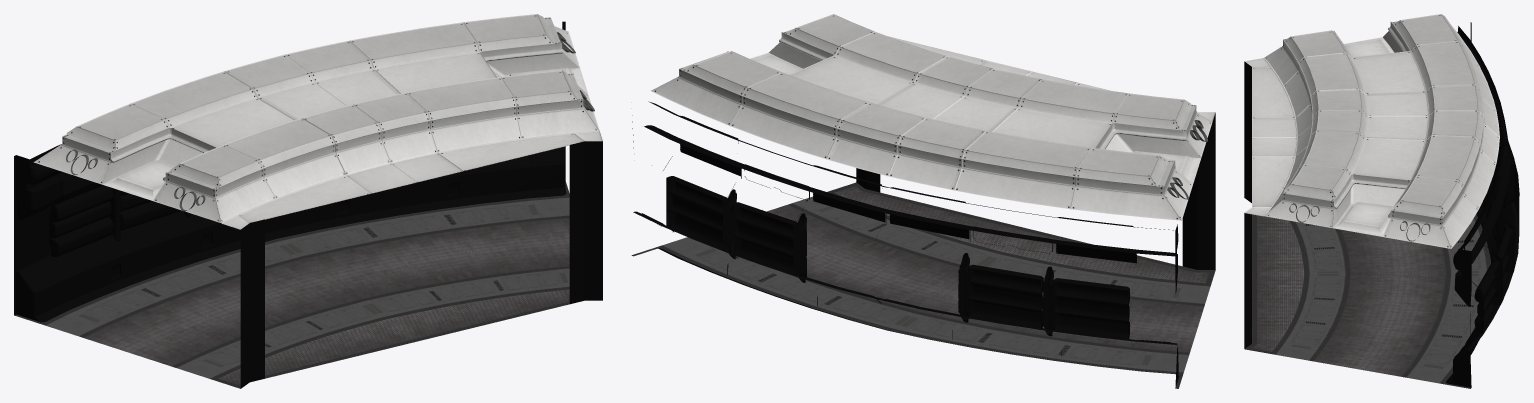
File: HallwayBendA.fbx
3 renders of one model, left to right at view 1: azimuth 30°, elevation 25°; view 2: azimuth 150°, elevation 25°; view 3: azimuth 270°, elevation 25°, orthographic. The views are drawn at different scales.
Parts seen in each view (by area): view 1: HallwayBendA001; view 2: HallwayBendA001; view 3: HallwayBendA001.
Part boxes in pixels (x1=…): HallwayBendA001: x1=14, y1=14, x2=602, y2=388; HallwayBendA001: x1=631, y1=14, x2=1215, y2=388; HallwayBendA001: x1=1244, y1=14, x2=1519, y2=388.
Size of the model in its own units: 1449 by 478 by 730.
